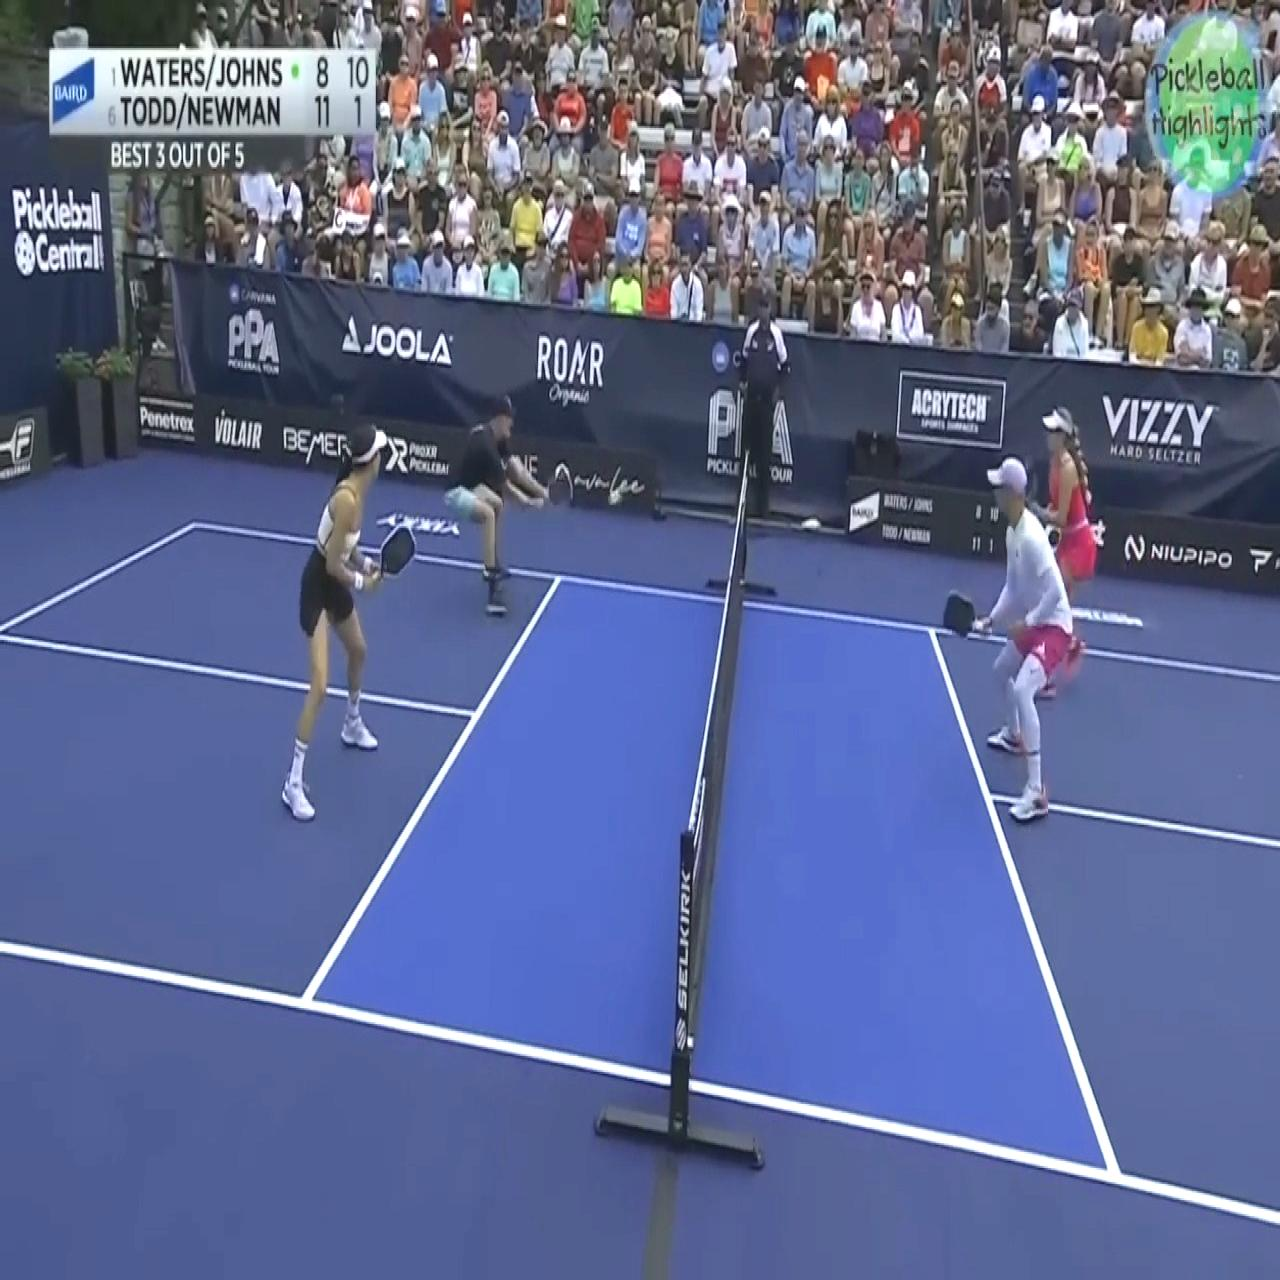Pickleball: (607, 482, 621, 506)
